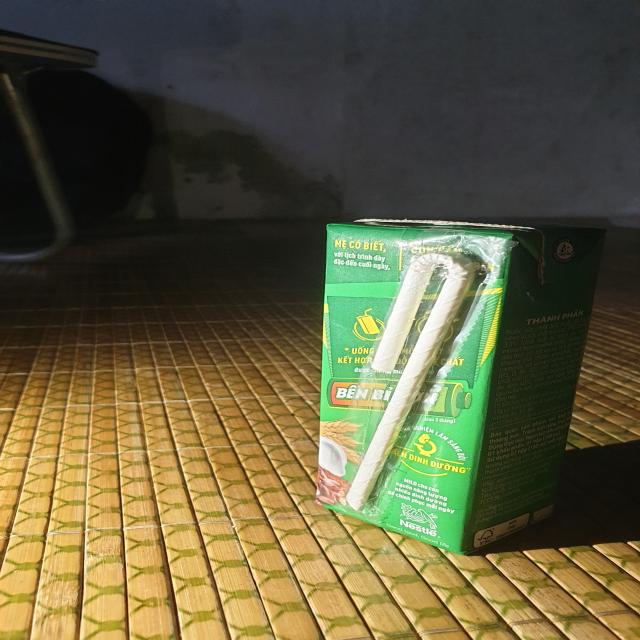Milo: (326, 220, 611, 552)
